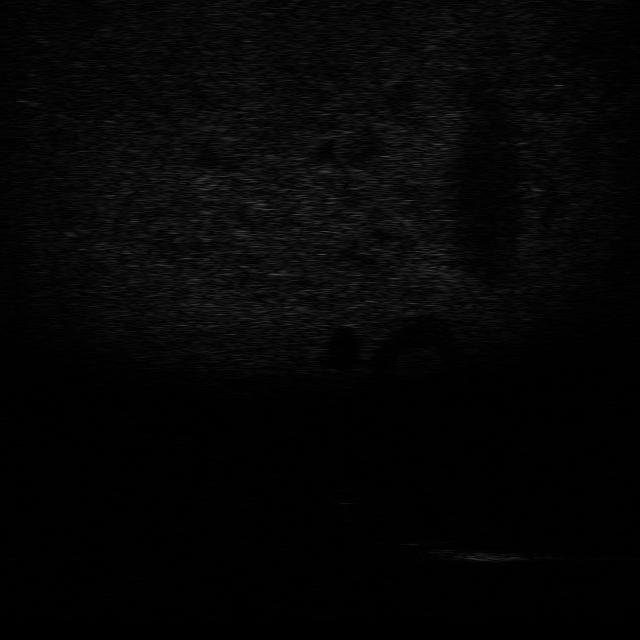ball: (324, 482, 370, 508)
metal bucket: (429, 541, 531, 568)
tyre: (387, 529, 452, 550)
